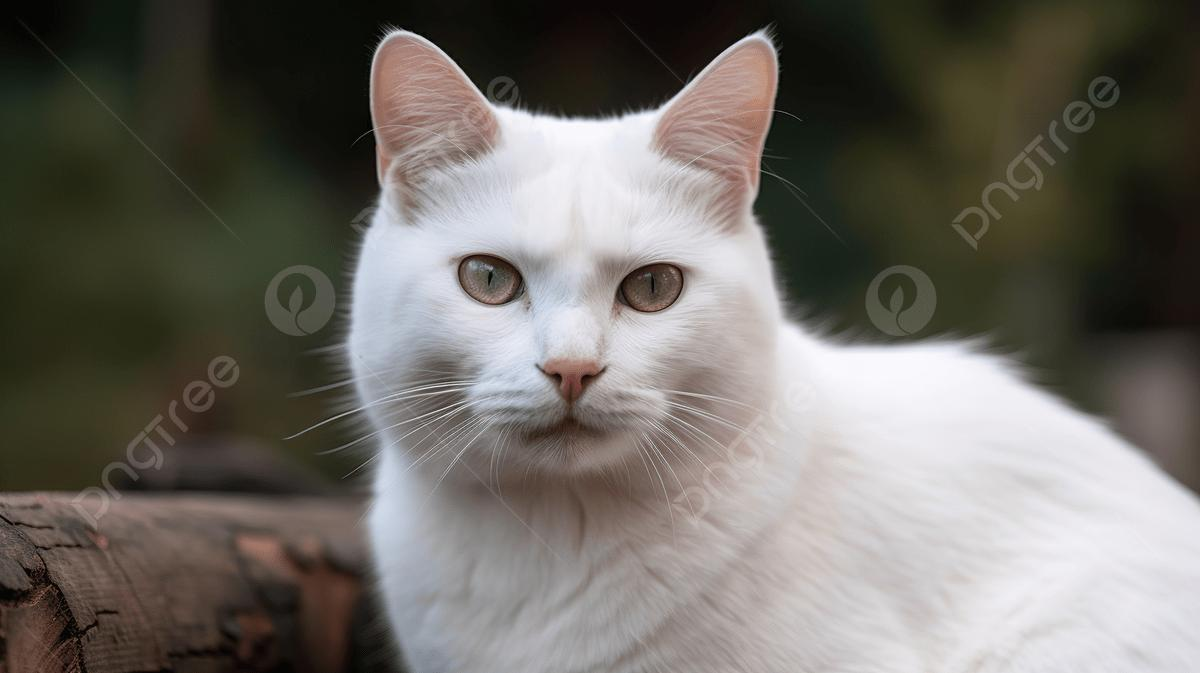cat: (353, 17, 1195, 673)
